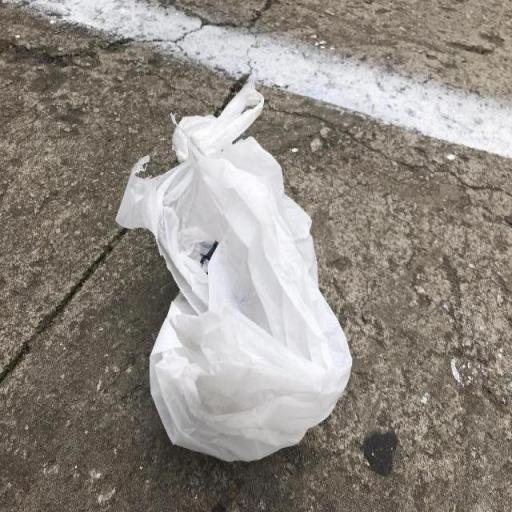plastic-bag: (114, 82, 354, 469)
